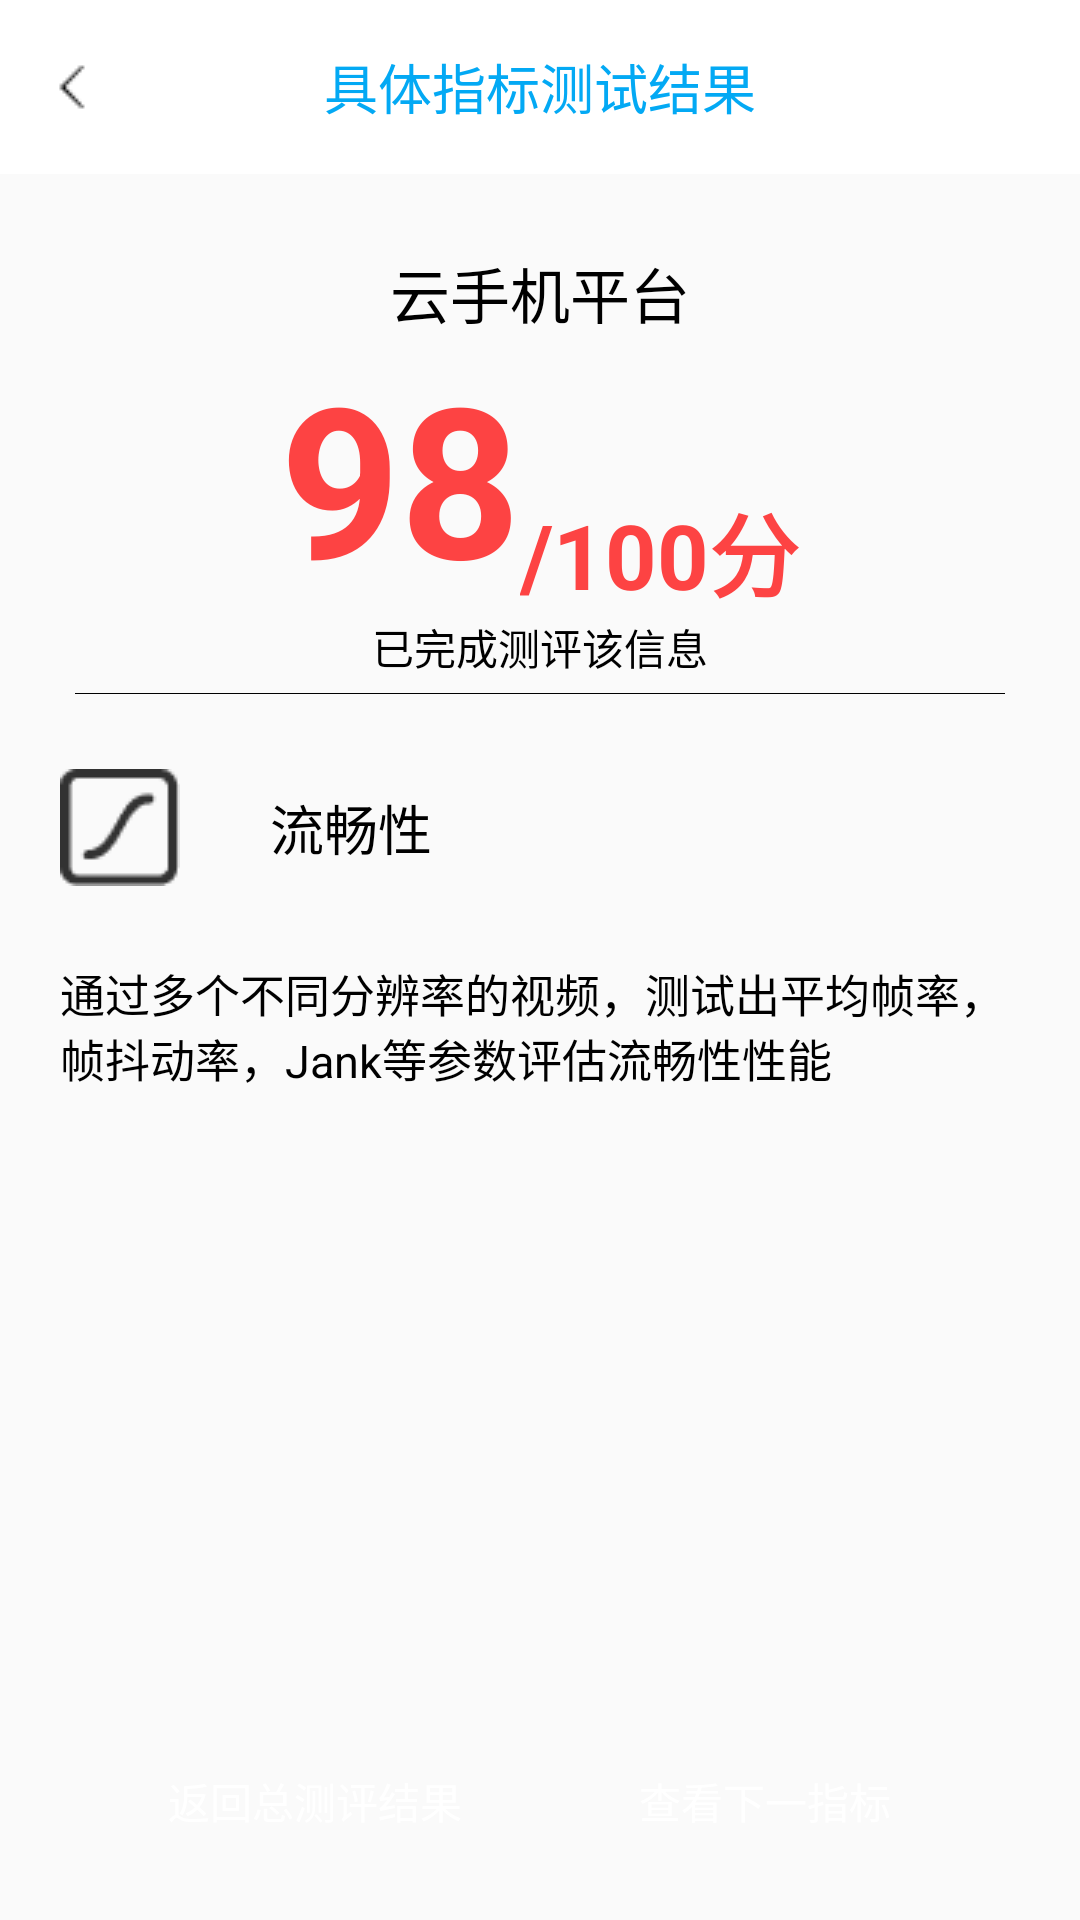

Where icons sit on this 1080w x 1920h app screen, as {"x1": x1, "y1": y1, "x2": x2, "y2": y2}:
fanhui: {"x1": 59, "y1": 65, "x2": 85, "y2": 109}
liuchang: {"x1": 60, "y1": 769, "x2": 180, "y2": 886}
